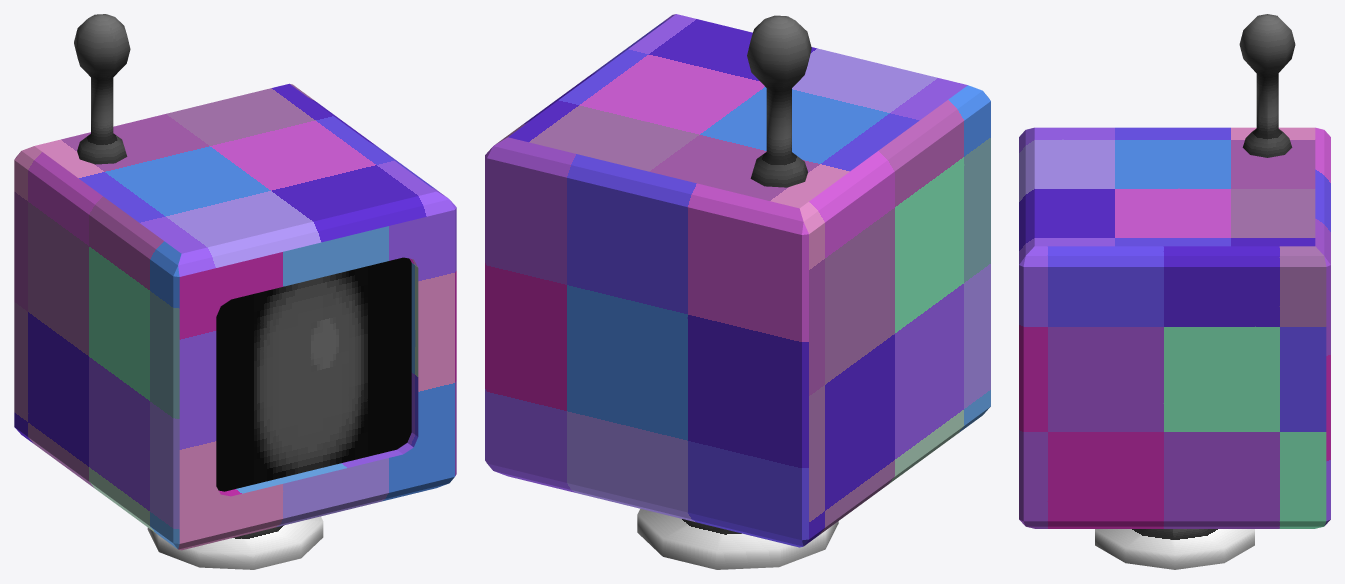
The model's file is rmk_dot_tv_jwl.dae.
The picture shows the model from 3 angles, left to right: view 1: azimuth 30°, elevation 25°; view 2: azimuth 150°, elevation 25°; view 3: azimuth 270°, elevation 25°; orthographic projection. The views are drawn at different scales.
Parts seen in each view (by area): view 1: rmk_dot_tv_jwl; view 2: rmk_dot_tv_jwl; view 3: rmk_dot_tv_jwl.
Boxes of the visible parts, x1,y1,x2,y2 form: rmk_dot_tv_jwl: [14, 14, 456, 569]; rmk_dot_tv_jwl: [485, 14, 990, 569]; rmk_dot_tv_jwl: [1019, 14, 1330, 569].
Bounding box in the file's own units: 21.52 × 36.47 × 21.52.
Materials: 3 (3 with a texture image).
